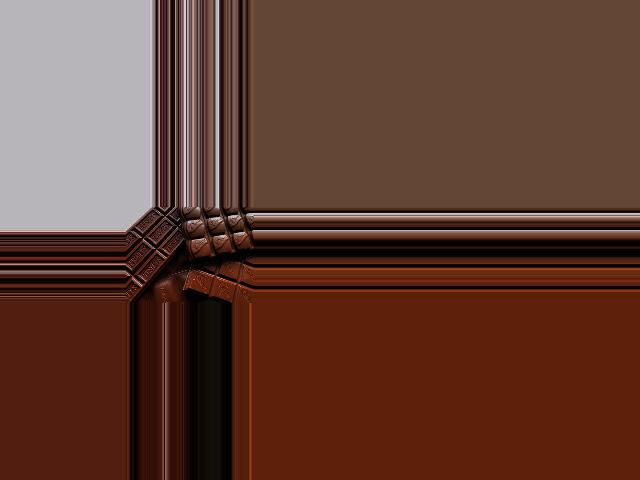chocolate: (184, 241, 254, 297)
